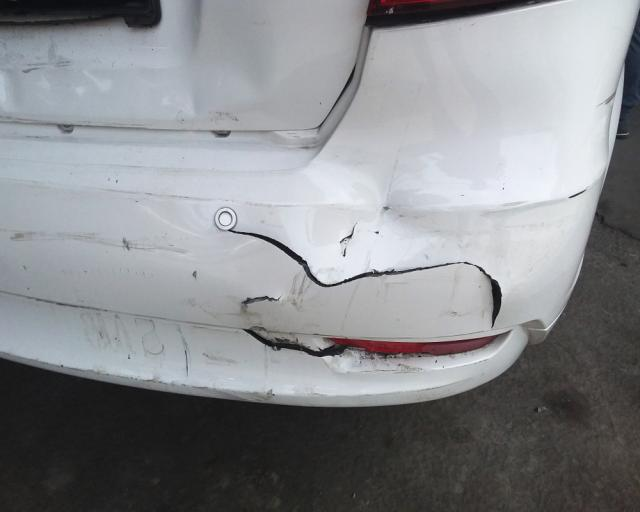crack: (223, 230, 504, 333), (239, 323, 350, 359), (241, 293, 284, 305)
dent: (294, 154, 466, 281), (167, 21, 277, 116)
scratch: (10, 230, 188, 253)
